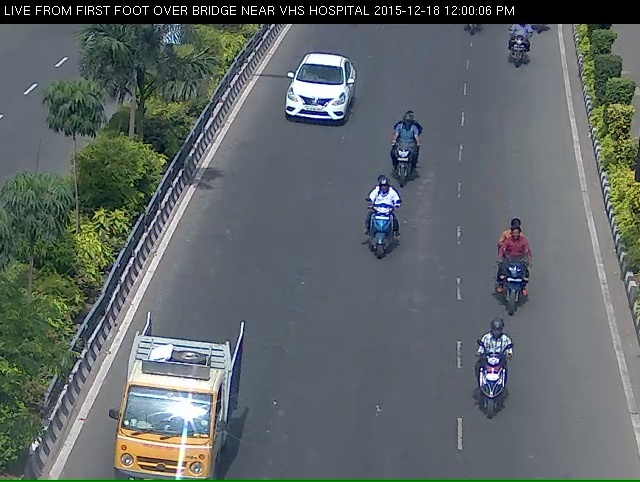Car: (91, 355, 233, 477), (272, 58, 350, 135)
Person: (492, 232, 540, 335), (357, 202, 408, 283), (467, 359, 515, 444), (374, 123, 427, 199), (504, 24, 533, 77), (453, 22, 486, 55)
